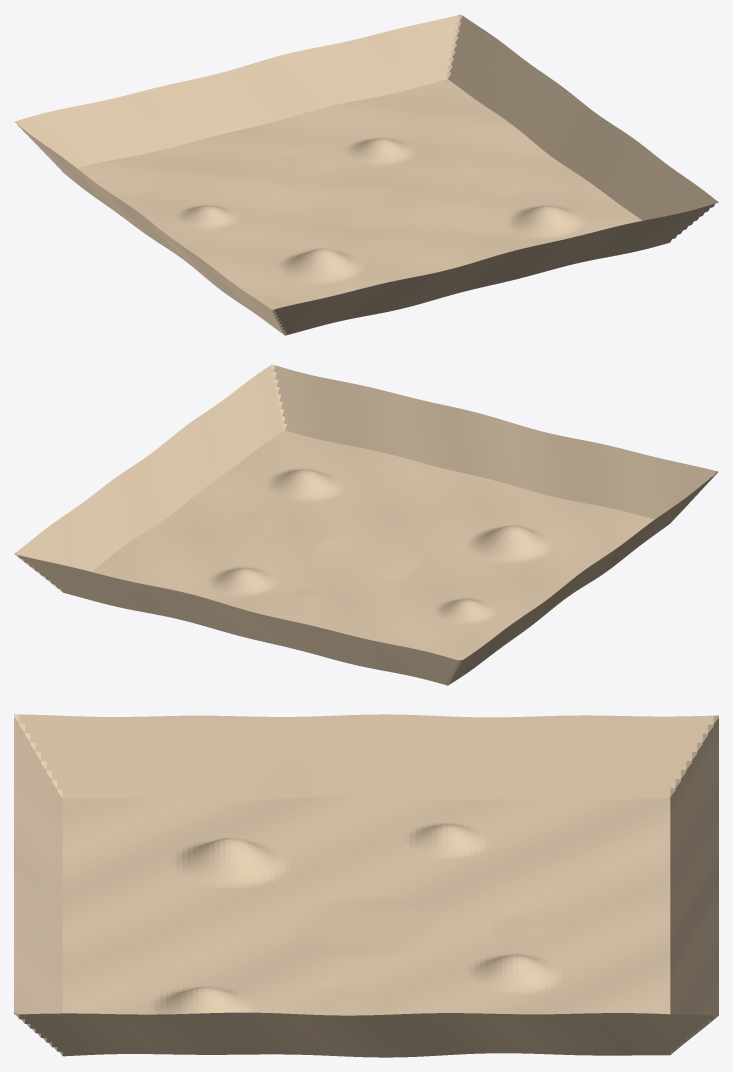
The model's file is GGO_Terrain.fbx.
The picture shows the model from 3 angles, top to bottom: view 1: azimuth 30°, elevation 25°; view 2: azimuth 150°, elevation 25°; view 3: azimuth 270°, elevation 25°; orthographic projection. The views are drawn at different scales.
Parts seen in each view (by area): view 1: Ground; view 2: Ground; view 3: Ground.
Part boxes in pixels (x1,y1,x2,y2): Ground: [14, 14, 718, 335]; Ground: [14, 364, 718, 685]; Ground: [14, 714, 718, 1057].
Size of the model in its own units: 260 by 260 by 27.13.
